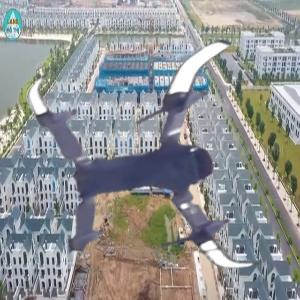drone: (36, 35, 299, 298)
